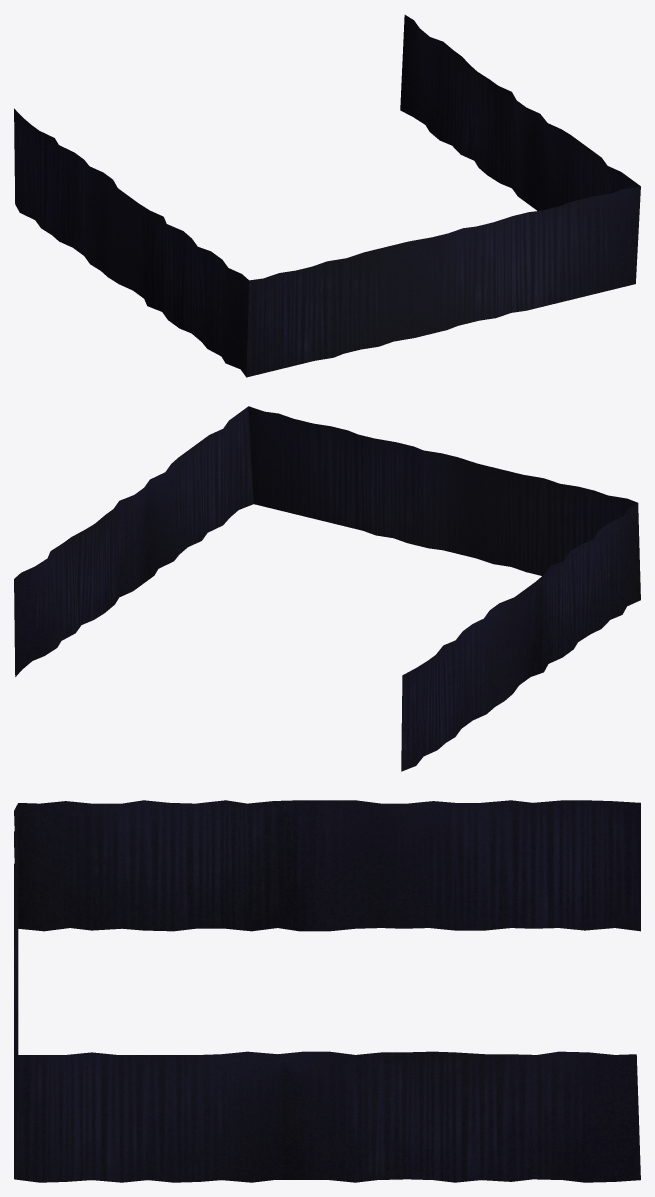
Rendered from ey_verse_curtains.glb.
The picture shows the model from 3 angles, top to bottom: view 1: azimuth 30°, elevation 25°; view 2: azimuth 150°, elevation 25°; view 3: azimuth 270°, elevation 25°; orthographic projection. The views are drawn at different scales.
Parts seen in each view (by area): view 1: ey_verse_curtains; view 2: ey_verse_curtains; view 3: ey_verse_curtains.
Part boxes in pixels (box(x1,y1,x2,y2)): ey_verse_curtains: box(14, 15, 640, 377); ey_verse_curtains: box(14, 406, 640, 771); ey_verse_curtains: box(14, 800, 640, 1182).
Bounding box in the file's own units: 11.17 × 2.61 × 11.62.
1 material, 1 textured.
